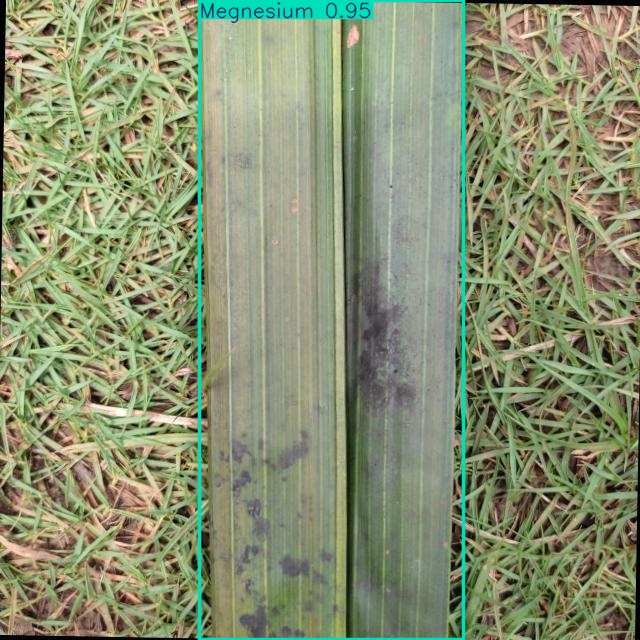Megnesium: (200, 0, 463, 640)
